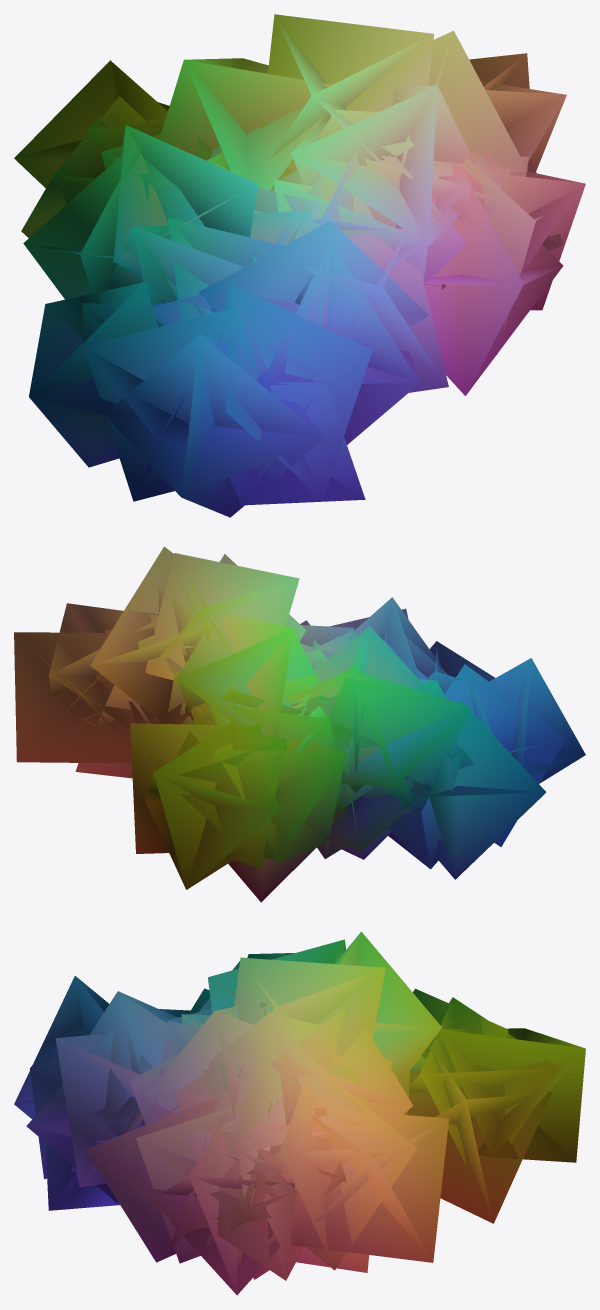
Rendered from Forest_plant_tree_081_a.fbx.
3 views of the same model, one above another, from view 1: azimuth 30°, elevation 25°; view 2: azimuth 150°, elevation 25°; view 3: azimuth 270°, elevation 25° (orthographic). The views are drawn at different scales.
Visible parts, largest first — view 1: attribwrangle50; view 2: attribwrangle50; view 3: attribwrangle50.
Boxes of the visible parts, x1,y1,x2,y2 form: attribwrangle50: (14,14,585,517); attribwrangle50: (14,546,585,902); attribwrangle50: (14,931,585,1295).
Bounding box in the file's own units: 2717 × 1559 × 2562.
